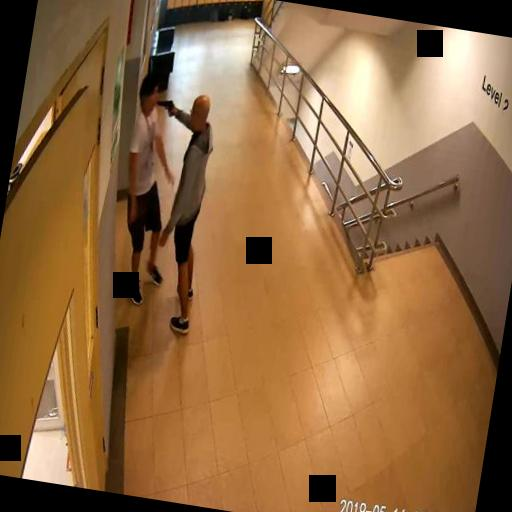Handgun: (154, 96, 174, 116)
